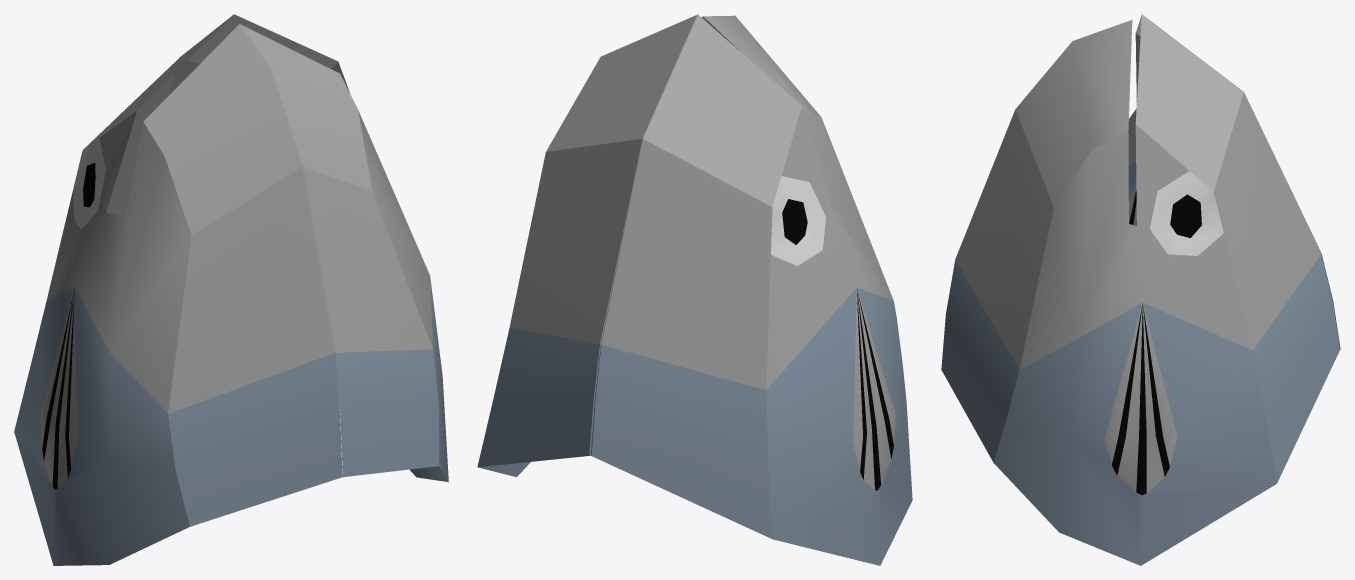
Rendered from FishHead.fbx.
3 views of the same model, side by side, from view 1: azimuth 30°, elevation 25°; view 2: azimuth 150°, elevation 25°; view 3: azimuth 270°, elevation 25° (orthographic). The views are drawn at different scales.
Visible parts, largest first — view 1: FishHead2; view 2: FishHead2; view 3: FishHead2.
Part boxes in pixels (x1,y1,x2,y2): FishHead2: (14, 14, 448, 565); FishHead2: (477, 14, 912, 565); FishHead2: (941, 14, 1340, 565).
Size of the model in its own units: 33.99 by 45.38 by 34.96.
